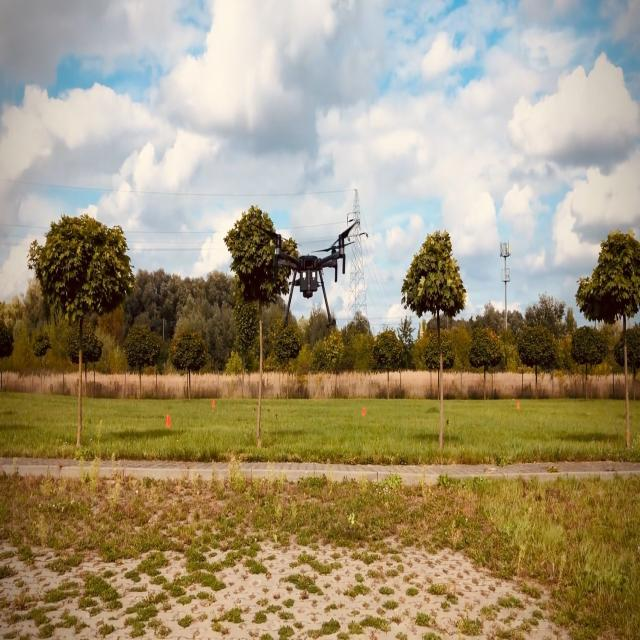drone: (252, 218, 357, 327)
